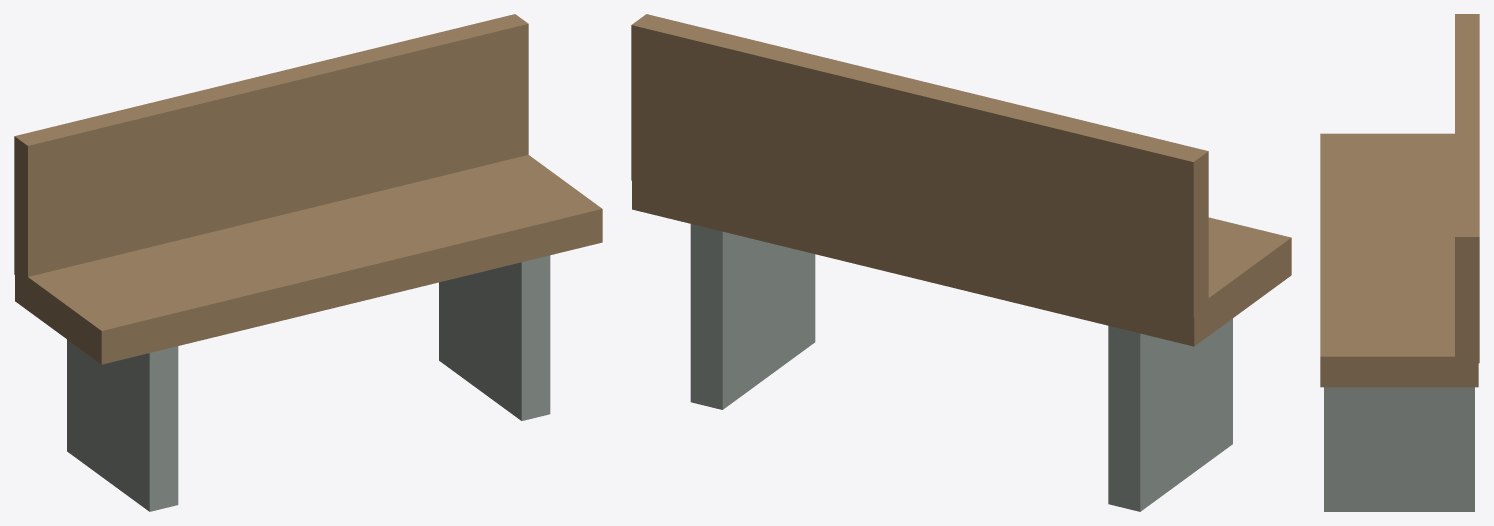
File: zoo-and-safari-park-builder-bench-524a9bdf__21490.glb
3 renders of one model, left to right at view 1: azimuth 30°, elevation 25°; view 2: azimuth 150°, elevation 25°; view 3: azimuth 270°, elevation 25°, orthographic. The views are drawn at different scales.
Parts seen in each view (by area): view 1: bench; view 2: bench; view 3: bench.
Part boxes in pixels (x1,y1,x2,y2): bench: (14, 14, 602, 511); bench: (631, 14, 1291, 511); bench: (1320, 14, 1479, 511).
Size of the model in its own units: 1.4 by 0.87 by 0.4225.
